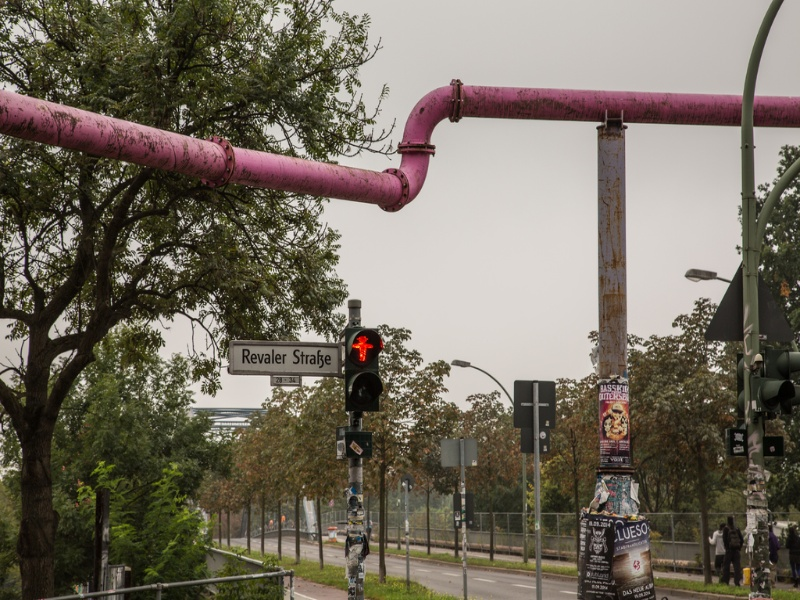red_light: (347, 333, 388, 367)
